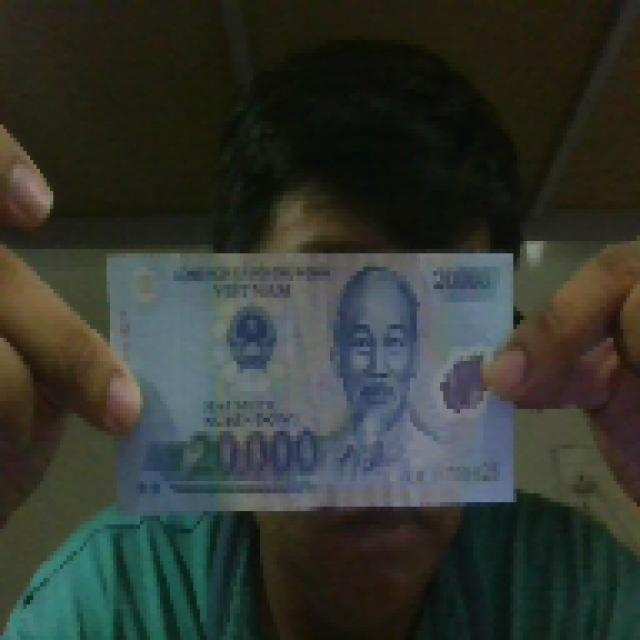20 000 VND: (100, 244, 520, 520)
